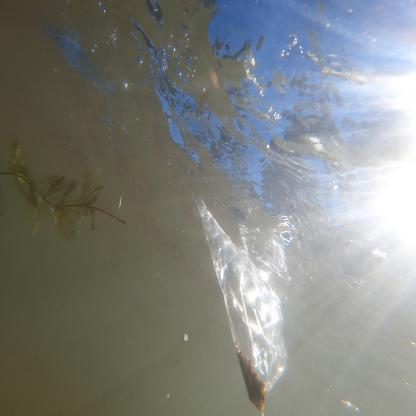Rác: (193, 186, 292, 415)
